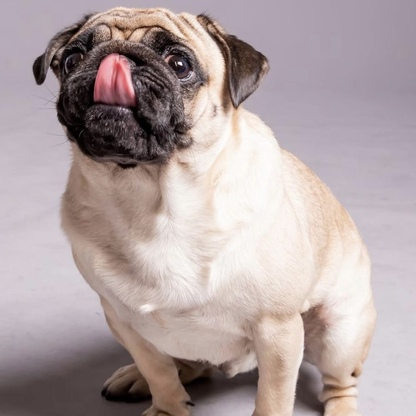Pug: (28, 4, 381, 416)
